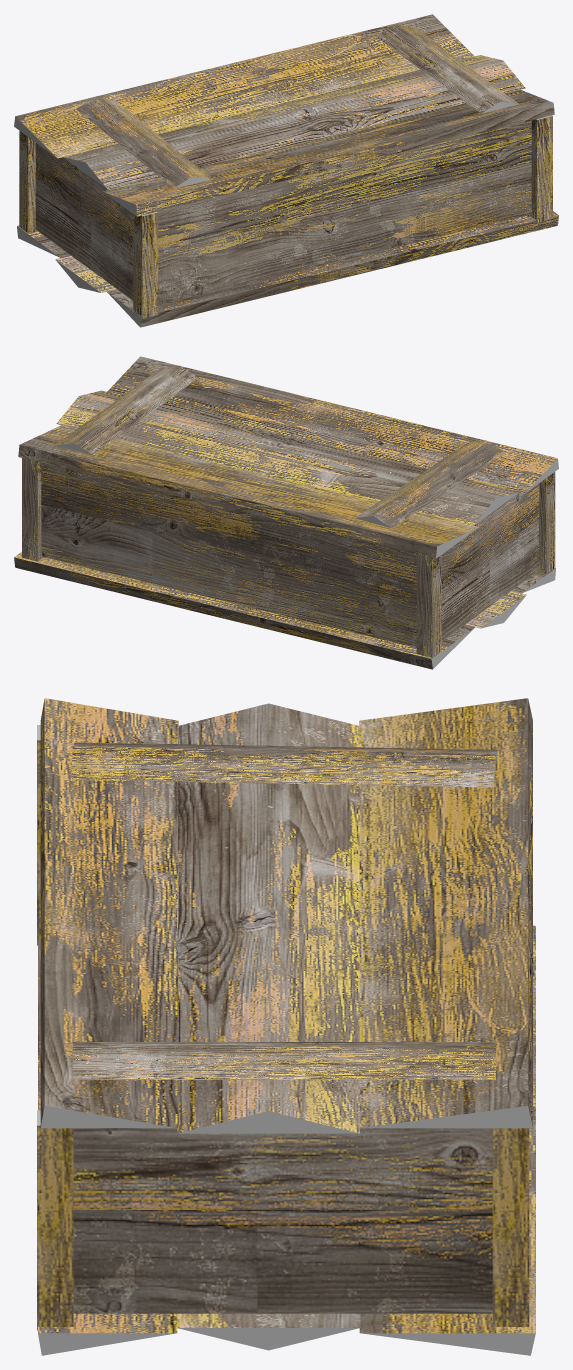
Rendered from Chest1_LOD1.fbx.
The picture shows the model from 3 angles, top to bottom: view 1: azimuth 30°, elevation 25°; view 2: azimuth 150°, elevation 25°; view 3: azimuth 270°, elevation 25°; orthographic projection. The views are drawn at different scales.
Visible parts, largest first — view 1: polySurface838; view 2: polySurface838; view 3: polySurface838.
Part boxes in pixels (<box>): polySurface838: <box>14,14,558,327</box>; polySurface838: <box>14,356,558,669</box>; polySurface838: <box>37,698,535,1355</box>.
Size of the model in its own units: 1.87 by 0.5487 by 0.9495.
